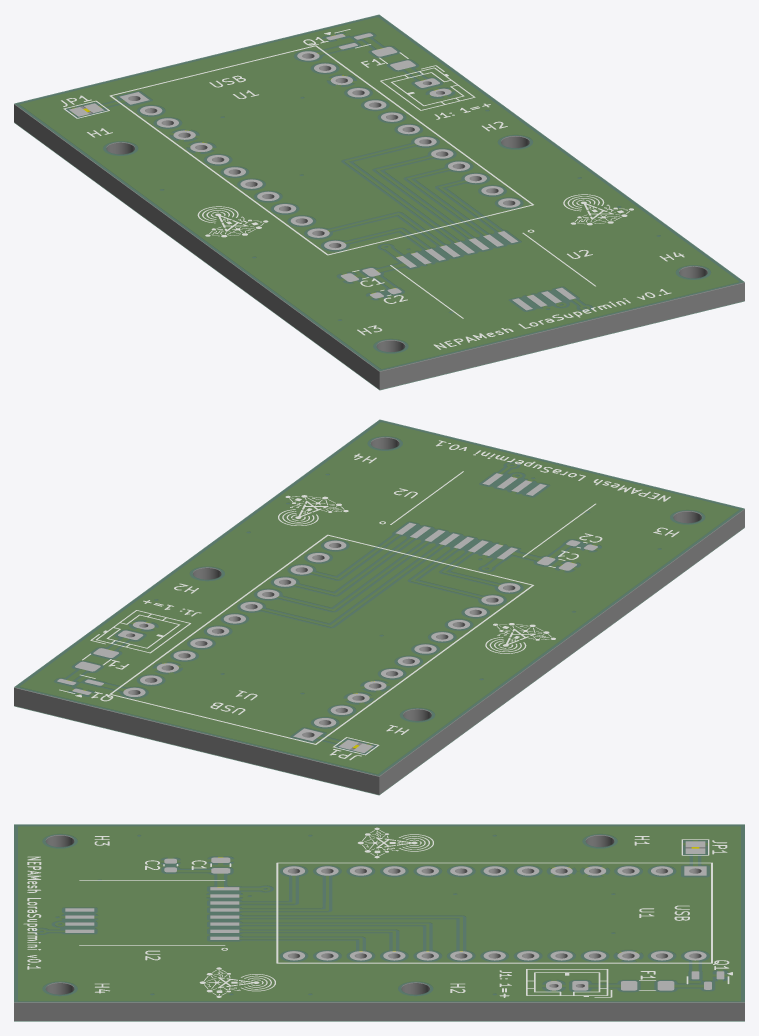
Rendered from nepamesh_lorasupermini.glb.
3 views of the same model, one above another, from view 1: azimuth 30°, elevation 25°; view 2: azimuth 150°, elevation 25°; view 3: azimuth 270°, elevation 25° (orthographic).
Parts seen in each view (by area): view 1: =>[0:1:1:6], =>[0:1:1:2], =>[0:1:1:7], =>[0:1:1:3], =>[0:1:1:5]; view 2: =>[0:1:1:6], =>[0:1:1:2], =>[0:1:1:7], =>[0:1:1:3], =>[0:1:1:5]; view 3: =>[0:1:1:6], =>[0:1:1:2], =>[0:1:1:7], =>[0:1:1:3], =>[0:1:1:5].
Part boxes in pixels (x1=…): =>[0:1:1:6]: x1=14, y1=14, x2=744, y2=390; =>[0:1:1:2]: x1=20, y1=18, x2=738, y2=368; =>[0:1:1:7]: x1=14, y1=16, x2=744, y2=389; =>[0:1:1:3]: x1=69, y1=33, x2=576, y2=310; =>[0:1:1:5]: x1=61, y1=29, x2=684, y2=349; =>[0:1:1:6]: x1=14, y1=419, x2=744, y2=795; =>[0:1:1:2]: x1=20, y1=423, x2=738, y2=773; =>[0:1:1:7]: x1=14, y1=421, x2=744, y2=794; =>[0:1:1:3]: x1=57, y1=473, x2=597, y2=753; =>[0:1:1:5]: x1=59, y1=440, x2=679, y2=760; =>[0:1:1:6]: x1=14, y1=824, x2=744, y2=1021; =>[0:1:1:2]: x1=18, y1=827, x2=740, y2=1000; =>[0:1:1:7]: x1=14, y1=825, x2=744, y2=1020; =>[0:1:1:3]: x1=65, y1=841, x2=724, y2=990; =>[0:1:1:5]: x1=23, y1=827, x2=732, y2=997.
Bounding box in the file's own units: 0.032 × 0.00166 × 0.0555.
